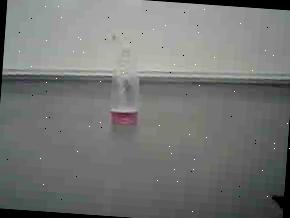hazard: (93, 26, 150, 127)
